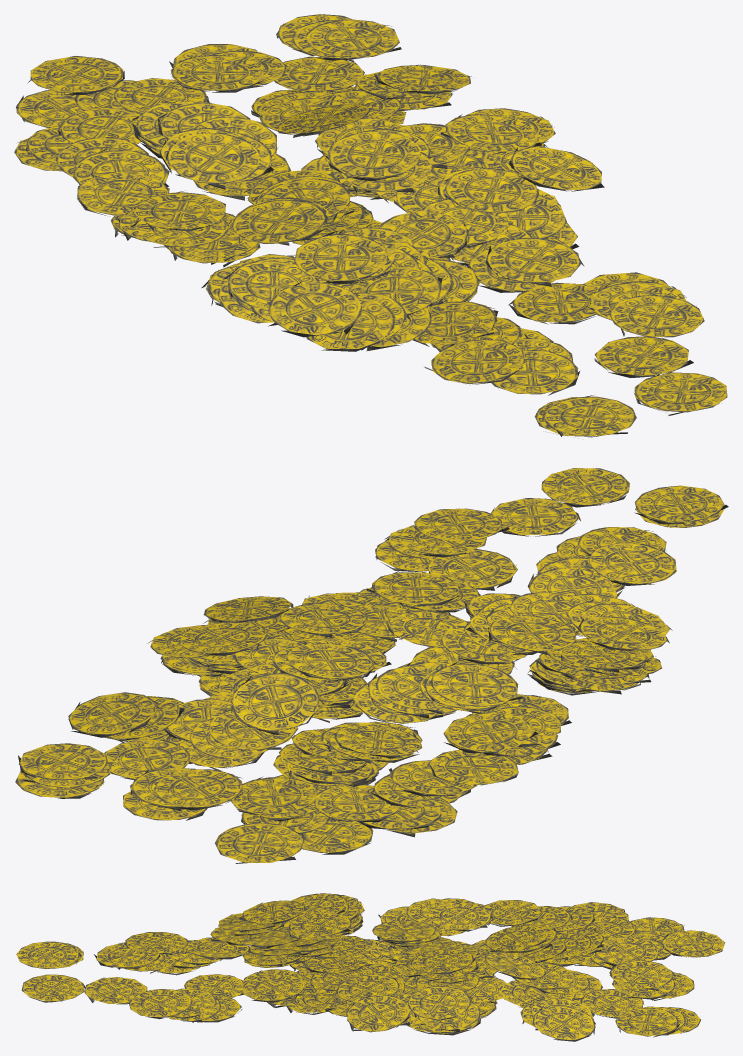
The model's file is coin_pile.glb.
The picture shows the model from 3 angles, top to bottom: view 1: azimuth 30°, elevation 25°; view 2: azimuth 150°, elevation 25°; view 3: azimuth 270°, elevation 25°; orthographic projection. The views are drawn at different scales.
Visible parts, largest first — view 1: Coin001_inst000_LP189_1_0, Coin001_inst000_LP081_1_0, Coin001_inst000_LP133_1_0, Coin001_inst000_LP178_1_0, Coin001_inst000_LP040_1_0, Coin001_inst000_LP111_1_0, Coin001_inst000_LP093_1_0, Coin001_inst000_LP175_1_0, Coin001_inst000_LP045_1_0, Coin001_inst000_LP046_1_0, Coin001_inst000_LP011_1_0, Coin001_inst000_LP047_1_0 (+58 smaller); view 2: Coin001_inst000_LP030_1_0, Coin001_inst000_LP175_1_0, Coin001_inst000_LP006_1_0, Coin001_inst000_LP093_1_0, Coin001_inst000_LP083_1_0, Coin001_inst000_LP026_1_0, Coin001_inst000_LP170_1_0, Coin001_inst000_LP047_1_0, Coin001_inst000_LP094_1_0, Coin001_inst000_LP002_1_0, Coin001_inst000_LP046_1_0, Coin001_inst000_LP074_1_0 (+58 smaller); view 3: Coin001_inst000_LP011_1_0, Coin001_inst000_LP006_1_0, Coin001_inst000_LP104_1_0, Coin001_inst000_LP026_1_0, Coin001_inst000_LP002_1_0, Coin001_inst000_LP045_1_0, Coin001_inst000_LP170_1_0, Coin001_inst000_LP094_1_0, Coin001_inst000_LP040_1_0, Coin001_inst000_LP047_1_0, Coin001_inst000_LP083_1_0, Coin001_inst000_LP074_1_0 (+67 smaller).
Boxes of the visible parts, left/top/right/bottom form: Coin001_inst000_LP189_1_0: left=268, top=281, right=362, bottom=337; Coin001_inst000_LP081_1_0: left=166, top=132, right=259, bottom=189; Coin001_inst000_LP133_1_0: left=327, top=130, right=420, bottom=181; Coin001_inst000_LP178_1_0: left=294, top=233, right=388, bottom=283; Coin001_inst000_LP040_1_0: left=485, top=237, right=584, bottom=286; Coin001_inst000_LP111_1_0: left=443, top=167, right=539, bottom=213; Coin001_inst000_LP093_1_0: left=424, top=339, right=524, bottom=385; Coin001_inst000_LP175_1_0: left=231, top=199, right=329, bottom=243; Coin001_inst000_LP045_1_0: left=609, top=295, right=704, bottom=337; Coin001_inst000_LP046_1_0: left=594, top=336, right=693, bottom=377; Coin001_inst000_LP011_1_0: left=508, top=146, right=604, bottom=191; Coin001_inst000_LP047_1_0: left=634, top=372, right=727, bottom=416; Coin001_inst000_LP030_1_0: left=231, top=673, right=324, bottom=734; Coin001_inst000_LP175_1_0: left=429, top=662, right=523, bottom=706; Coin001_inst000_LP006_1_0: left=68, top=692, right=159, bottom=737; Coin001_inst000_LP093_1_0: left=588, top=542, right=676, bottom=585; Coin001_inst000_LP083_1_0: left=215, top=823, right=304, bottom=863; Coin001_inst000_LP026_1_0: left=154, top=769, right=243, bottom=810; Coin001_inst000_LP170_1_0: left=443, top=713, right=537, bottom=753; Coin001_inst000_LP047_1_0: left=541, top=468, right=629, bottom=507; Coin001_inst000_LP094_1_0: left=634, top=485, right=728, bottom=524; Coin001_inst000_LP002_1_0: left=18, top=743, right=107, bottom=780; Coin001_inst000_LP046_1_0: left=490, top=498, right=580, bottom=536; Coin001_inst000_LP074_1_0: left=231, top=777, right=317, bottom=815; Coin001_inst000_LP011_1_0: left=346, top=994, right=409, bottom=1032; Coin001_inst000_LP006_1_0: left=532, top=1006, right=595, bottom=1041; Coin001_inst000_LP104_1_0: left=407, top=986, right=473, bottom=1020; Coin001_inst000_LP026_1_0: left=609, top=960, right=675, bottom=990; Coin001_inst000_LP002_1_0: left=615, top=1008, right=679, bottom=1037; Coin001_inst000_LP045_1_0: left=128, top=989, right=192, bottom=1019; Coin001_inst000_LP170_1_0: left=428, top=902, right=492, bottom=931; Coin001_inst000_LP094_1_0: left=16, top=941, right=80, bottom=969; Coin001_inst000_LP040_1_0: left=240, top=974, right=304, bottom=1002; Coin001_inst000_LP047_1_0: left=21, top=974, right=85, bottom=1002; Coin001_inst000_LP083_1_0: left=662, top=930, right=725, bottom=957; Coin001_inst000_LP074_1_0: left=595, top=937, right=658, bottom=966.
Size of the model in its own units: 0.1804 by 0.0165 by 0.3812.
Materials: 1 (1 with a texture image).
